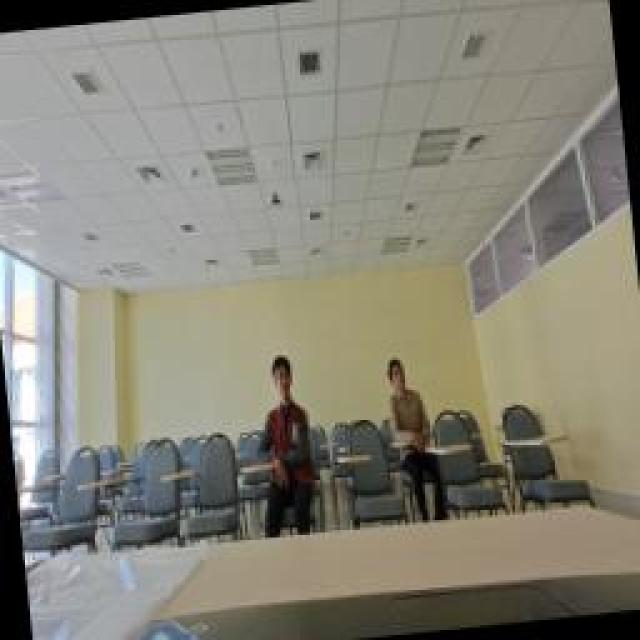study: (250, 353, 312, 465), (382, 350, 432, 452)
